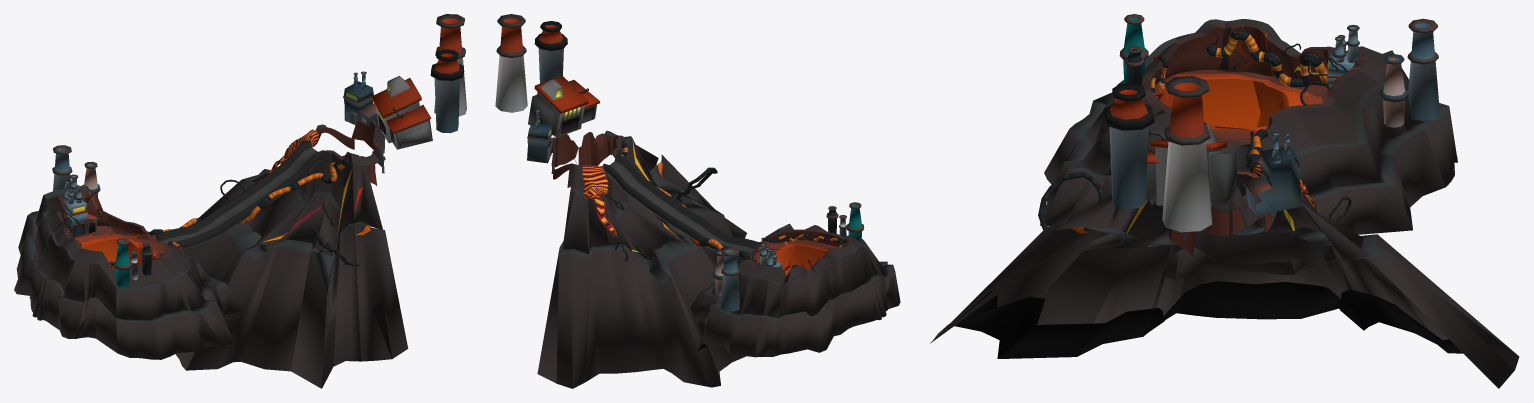
File: MapaSumoEstatico.fbx
3 views of the same model, side by side, from view 1: azimuth 30°, elevation 25°; view 2: azimuth 150°, elevation 25°; view 3: azimuth 270°, elevation 25° (orthographic). The views are drawn at different scales.
Parts seen in each view (by area): view 1: VulcaoDetalhe, VulcaoBase, Ponte, FabricaGrande, Chamine.012, Chamine.011, FabricaPequena2, CanoGrande.002, FabricaPequena1, Chamine.006, Chamine.007, CanoGrandeVidro.002 (+1 smaller); view 2: VulcaoDetalhe, VulcaoBase, Ponte, FabricaGrande, Chamine.011, Chamine.012, Chamine.006, LavaDetalhe2, FabricaPequena2, Chamine.007, CanoGrande.002, Chamine.008; view 3: VulcaoDetalhe, VulcaoBase, Chamine.011, Chamine.012, FabricaGrande, FabricaPequena2, Chamine.006, CanoGrande, Chamine.008, Chamine.007, CanoGrandeVidro, CanoPequeno.012 (+2 smaller).
Boxes of the visible parts, x1,y1,x2,y2 form: VulcaoDetalhe: [175, 120, 408, 388]; VulcaoBase: [14, 185, 244, 359]; Ponte: [155, 140, 324, 249]; FabricaGrande: [371, 76, 432, 149]; Chamine.012: [430, 49, 464, 133]; Chamine.011: [434, 14, 466, 116]; FabricaPequena2: [343, 81, 378, 125]; CanoGrande.002: [149, 158, 348, 235]; FabricaPequena1: [64, 200, 98, 236]; Chamine.006: [52, 145, 72, 191]; Chamine.007: [113, 238, 132, 287]; CanoGrandeVidro.002: [163, 162, 345, 231]; VulcaoDetalhe: [537, 130, 746, 388]; VulcaoBase: [690, 223, 900, 357]; Ponte: [603, 154, 761, 258]; FabricaGrande: [528, 75, 600, 136]; Chamine.011: [495, 14, 527, 112]; Chamine.012: [534, 21, 567, 83]; Chamine.006: [720, 247, 740, 311]; LavaDetalhe2: [582, 165, 616, 235]; FabricaPequena2: [527, 122, 553, 162]; Chamine.007: [846, 202, 864, 240]; CanoGrande.002: [620, 141, 747, 258]; Chamine.008: [713, 249, 724, 295]; VulcaoDetalhe: [930, 162, 1519, 388]; VulcaoBase: [1040, 19, 1457, 279]; Chamine.011: [1162, 76, 1212, 232]; Chamine.012: [1103, 83, 1154, 209]; FabricaGrande: [1146, 125, 1237, 206]; FabricaPequena2: [1243, 147, 1301, 215]; Chamine.006: [1407, 18, 1439, 121]; CanoGrande: [1205, 29, 1327, 87]; Chamine.008: [1379, 54, 1408, 127]; Chamine.007: [1119, 14, 1148, 83]; CanoGrandeVidro: [1215, 34, 1328, 86]; CanoPequeno.012: [1038, 172, 1104, 254].
Bounding box in the file's own units: 139 × 89.66 × 113.
